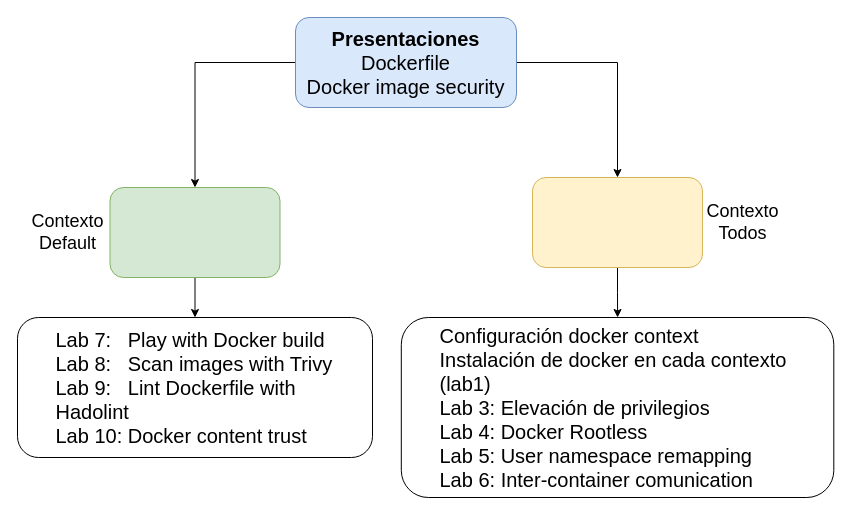
The diagram is 852 pixels wide and 515 high, and some of its shapes have lost their labels. Each missing label, with the box of its shape:
Laboratorios daemond: (532, 176, 702, 268)
Laboratorios Dockerfile: (109, 186, 280, 278)
